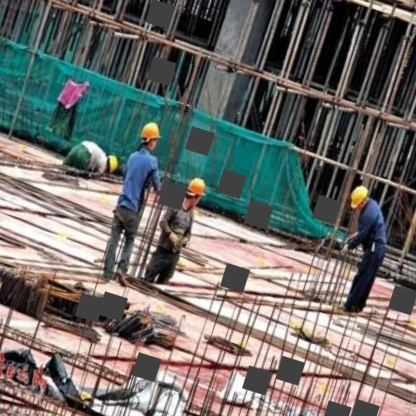yellow: (346, 178, 375, 216), (101, 146, 126, 178)
